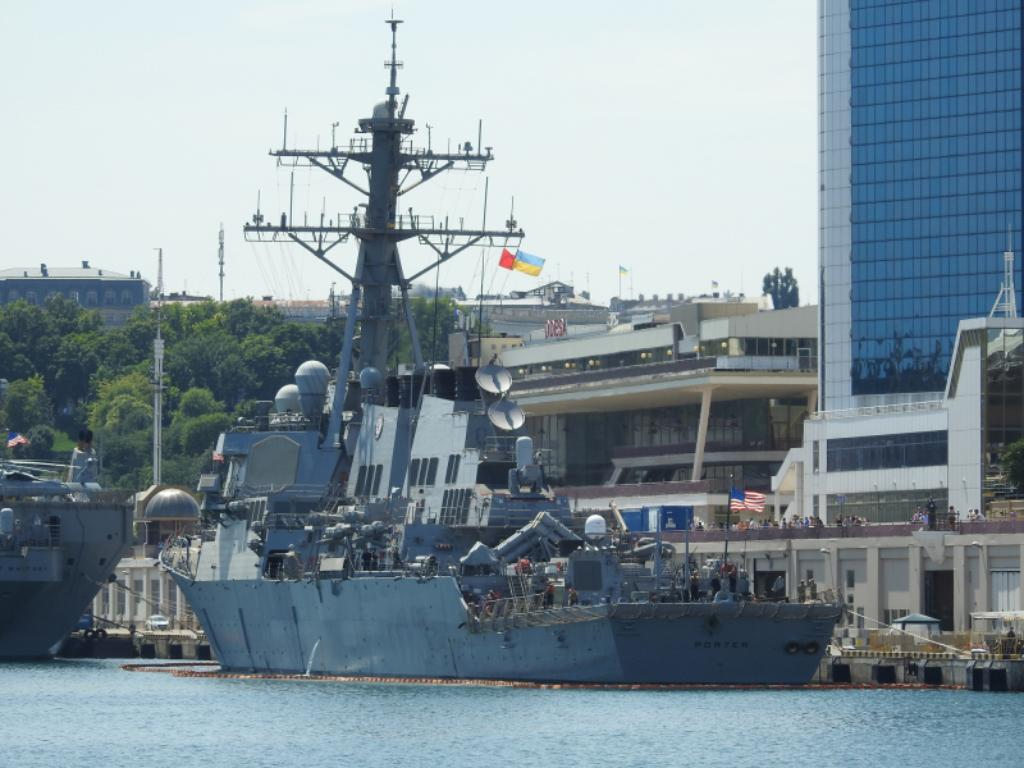Warship: (164, 7, 850, 687)
